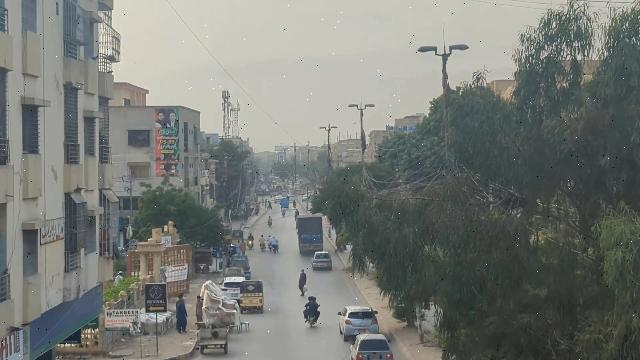Bike: (307, 311, 317, 328)
Car: (337, 306, 380, 341), (349, 332, 395, 360), (310, 250, 334, 273), (218, 276, 243, 298)
Cart: (196, 327, 231, 353)
Person: (294, 266, 310, 299), (174, 298, 188, 335), (303, 295, 320, 315), (194, 294, 203, 323)
Rickshaw: (238, 280, 266, 314)
Truck: (294, 214, 327, 256)
